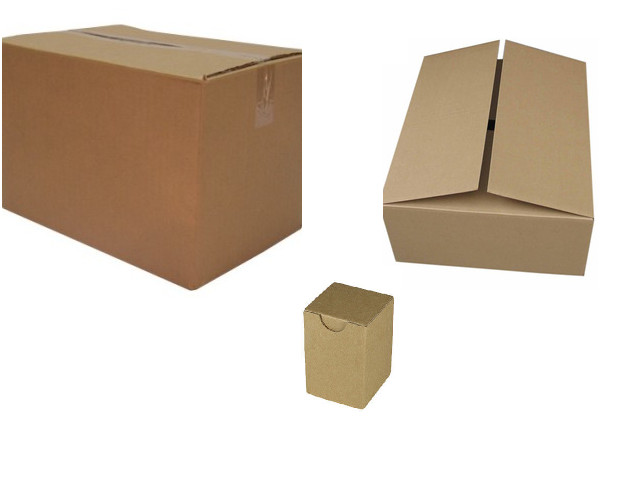cardboard: (0, 24, 299, 288), (381, 39, 594, 276), (304, 281, 391, 406)
